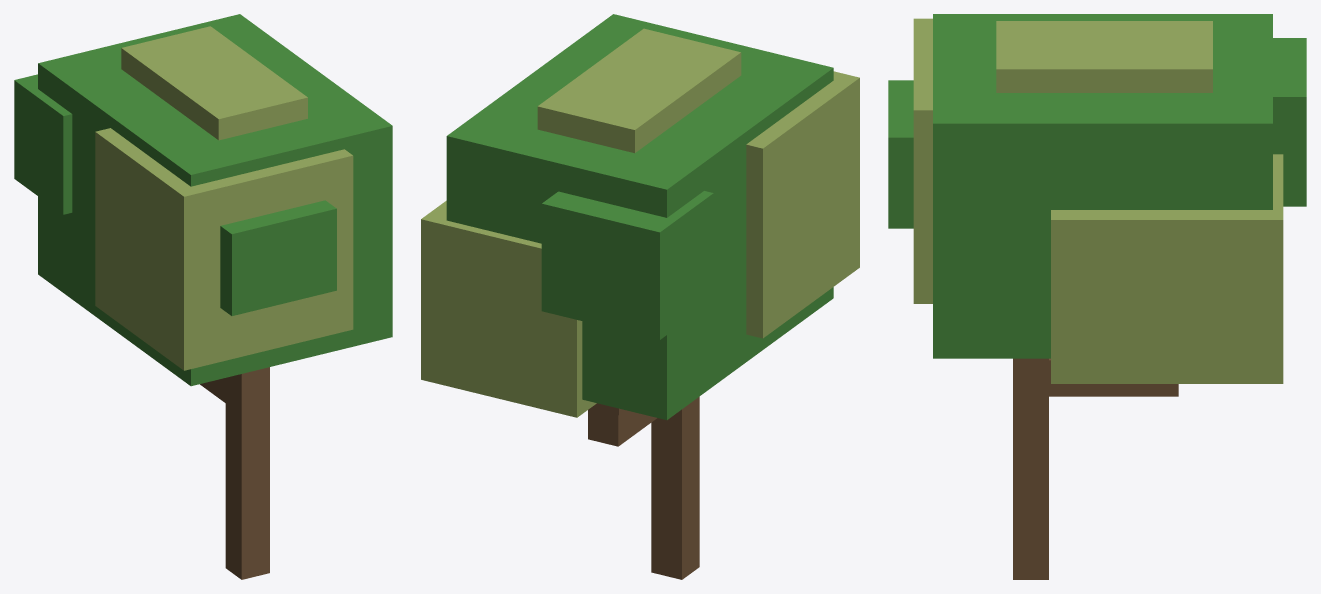
Rendered from Tree2.fbx.
3 views of the same model, side by side, from view 1: azimuth 30°, elevation 25°; view 2: azimuth 150°, elevation 25°; view 3: azimuth 270°, elevation 25° (orthographic). The views are drawn at different scales.
Parts seen in each view (by area): view 1: log2; view 2: log2; view 3: log2.
Part boxes in pixels (bbox=[...]): log2: bbox=[14, 14, 392, 579]; log2: bbox=[421, 14, 859, 579]; log2: bbox=[888, 14, 1306, 579].
Bounding box in the file's own units: 6.16 × 11.81 × 8.5.
